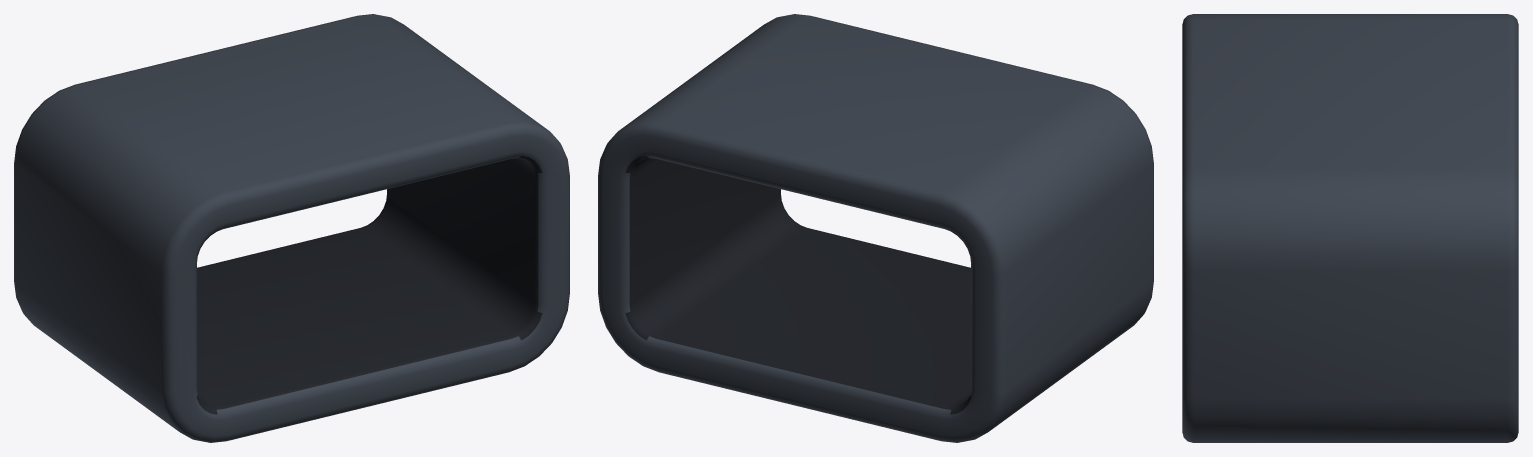
Rendered from mesa_centro_nicho_grafite.glb.
3 views of the same model, side by side, from view 1: azimuth 30°, elevation 25°; view 2: azimuth 150°, elevation 25°; view 3: azimuth 270°, elevation 25° (orthographic). The views are drawn at different scales.
Parts seen in each view (by area): view 1: mesa_centro_nicho_grafite; view 2: mesa_centro_nicho_grafite; view 3: mesa_centro_nicho_grafite.
Part boxes in pixels (bbox=[...]): mesa_centro_nicho_grafite: bbox=[14, 14, 569, 442]; mesa_centro_nicho_grafite: bbox=[598, 14, 1153, 442]; mesa_centro_nicho_grafite: bbox=[1182, 14, 1518, 442].
Bounding box in the file's own units: 0.72 × 0.42 × 0.48.
Materials: 1 (1 with a texture image).
